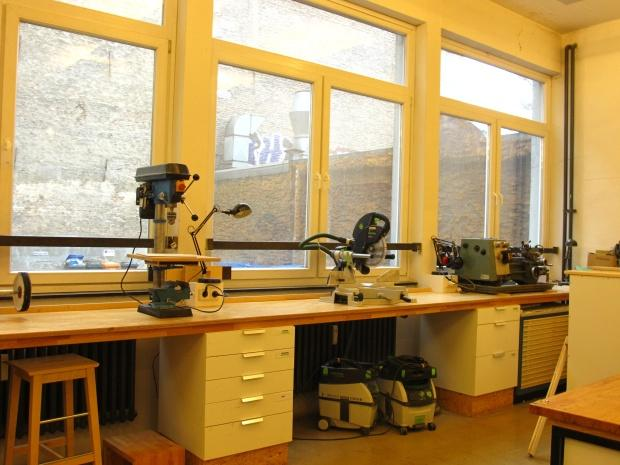Filing Cabinet: (204, 322, 293, 462), (473, 303, 520, 396)
